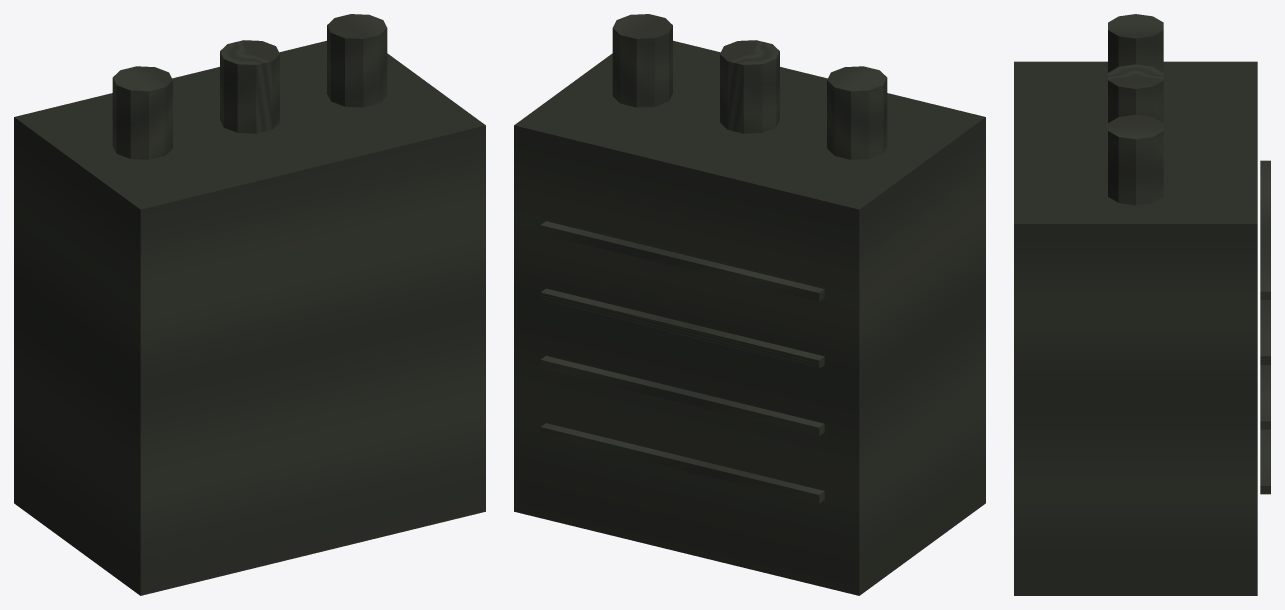
The model's file is culvert_drain_pipe_a.glb.
3 renders of one model, left to right at view 1: azimuth 30°, elevation 25°; view 2: azimuth 150°, elevation 25°; view 3: azimuth 270°, elevation 25°, orthographic. The views are drawn at different scales.
Visible parts, largest first — view 1: culvert_drain_pipe_a; view 2: culvert_drain_pipe_a; view 3: culvert_drain_pipe_a.
Part boxes in pixels (bbox=[...]): culvert_drain_pipe_a: bbox=[14, 14, 485, 595]; culvert_drain_pipe_a: bbox=[514, 14, 985, 595]; culvert_drain_pipe_a: bbox=[1014, 14, 1270, 595].
Bounding box in the file's own units: 1.45 × 1.83 × 0.97.
1 material, 1 textured.
